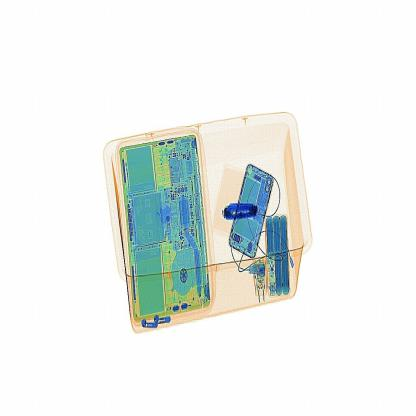scissors: (224, 199, 263, 223)
